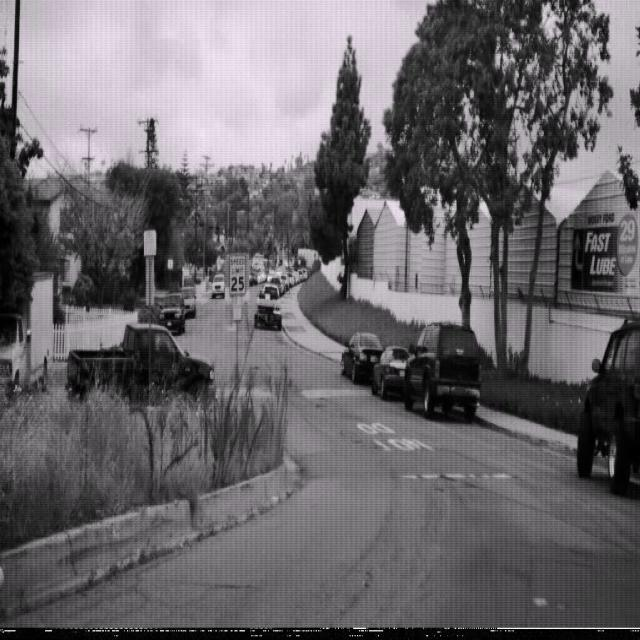speedLimit25: (228, 252, 246, 296)
